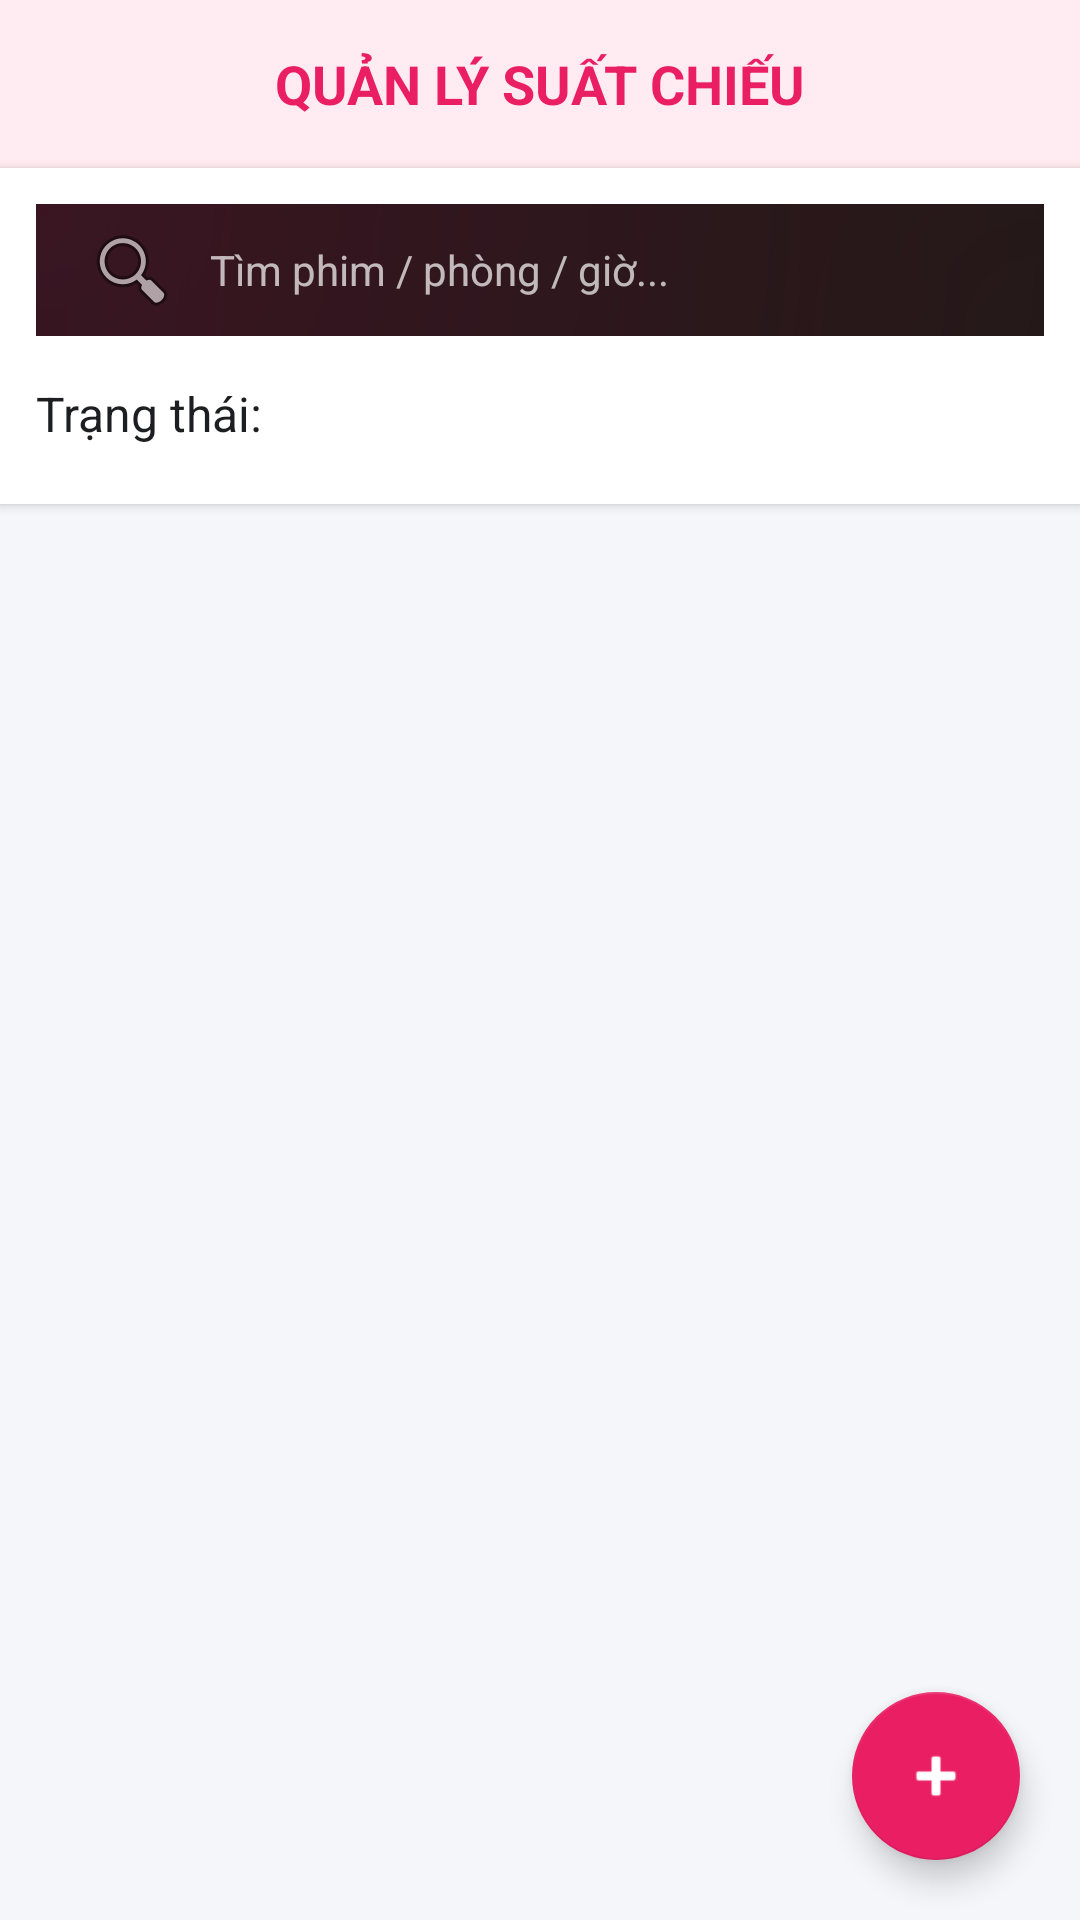

Where icons sit on this 1080px x 1920px app screen, as (x1, y1, x2, y2):
Thêm suất chiếu: (852, 1692, 1020, 1860)
